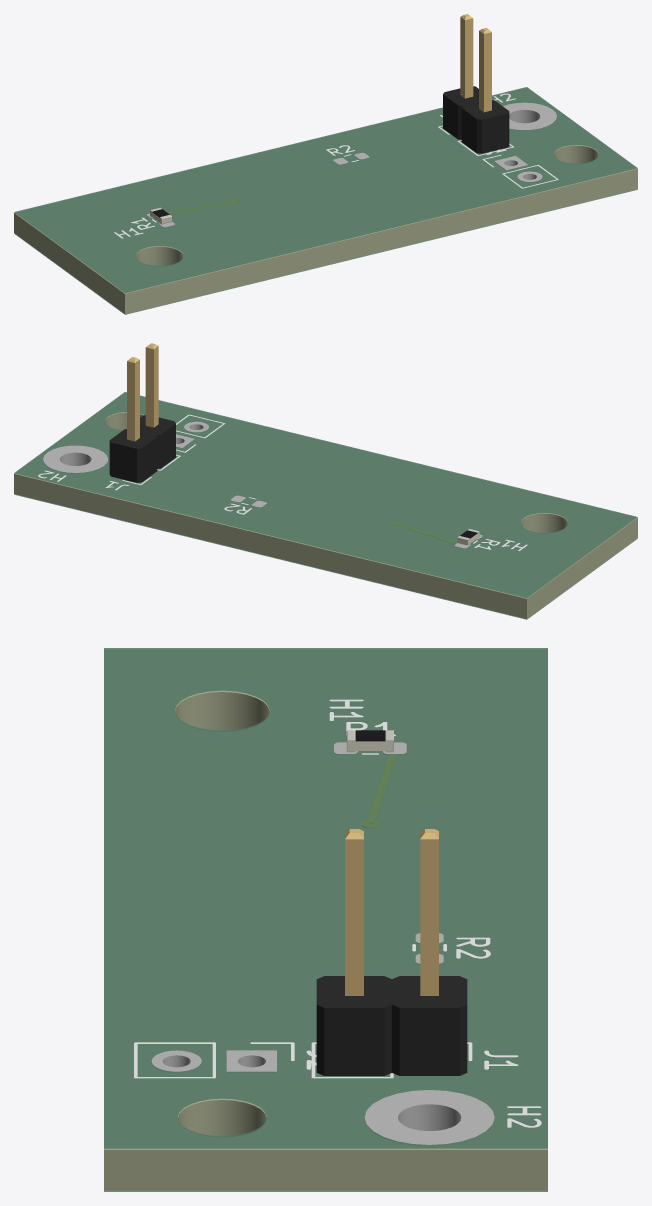
The model's file is board.glb.
The picture shows the model from 3 angles, top to bottom: view 1: azimuth 30°, elevation 25°; view 2: azimuth 150°, elevation 25°; view 3: azimuth 270°, elevation 25°; orthographic projection. The views are drawn at different scales.
Parts seen in each view (by area): view 1: =>[0:1:1:15], =>[0:1:1:13], =>[0:1:1:3], =>[0:1:1:9], =>[0:1:1:11], =>[0:1:1:14]; view 2: =>[0:1:1:15], =>[0:1:1:13], =>[0:1:1:3], =>[0:1:1:9], =>[0:1:1:11], =>[0:1:1:14]; view 3: =>[0:1:1:15], =>[0:1:1:13], =>[0:1:1:3], =>[0:1:1:9], =>[0:1:1:11], =>[0:1:1:5], =>[0:1:1:14].
Boxes of the visible parts, x1=… form: =>[0:1:1:15]: x1=14, y1=88, x2=637, y2=314; =>[0:1:1:13]: x1=14, y1=87, x2=637, y2=293; =>[0:1:1:3]: x1=443, y1=14, x2=509, y2=153; =>[0:1:1:9]: x1=147, y1=102, x2=556, y2=227; =>[0:1:1:11]: x1=114, y1=93, x2=558, y2=238; =>[0:1:1:14]: x1=14, y1=189, x2=637, y2=314; =>[0:1:1:15]: x1=14, y1=393, x2=637, y2=618; =>[0:1:1:13]: x1=14, y1=392, x2=637, y2=597; =>[0:1:1:3]: x1=109, y1=343, x2=175, y2=482; =>[0:1:1:9]: x1=43, y1=422, x2=482, y2=548; =>[0:1:1:11]: x1=38, y1=414, x2=527, y2=550; =>[0:1:1:14]: x1=14, y1=494, x2=637, y2=619; =>[0:1:1:15]: x1=104, y1=650, x2=547, y2=1190; =>[0:1:1:13]: x1=104, y1=648, x2=547, y2=1148; =>[0:1:1:3]: x1=316, y1=829, x2=467, y2=1075; =>[0:1:1:9]: x1=151, y1=742, x2=494, y2=1145; =>[0:1:1:11]: x1=134, y1=699, x2=541, y2=1127; =>[0:1:1:5]: x1=346, y1=730, x2=393, y2=752; =>[0:1:1:14]: x1=104, y1=1190, x2=547, y2=1191.
Size of the model in its own units: 0.04 by 0.0115 by 0.015.
